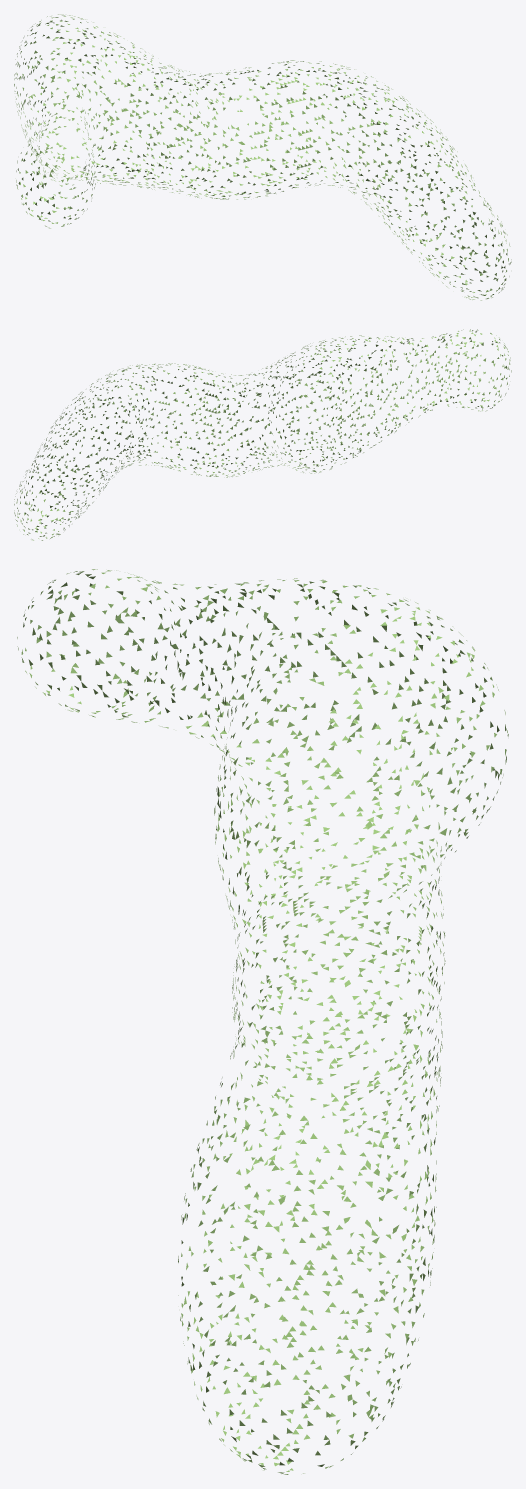
The model's file is morph_013.glb.
3 renders of one model, top to bottom at view 1: azimuth 30°, elevation 25°; view 2: azimuth 150°, elevation 25°; view 3: azimuth 270°, elevation 25°, orthographic. The views are drawn at different scales.
Size of the model in its own units: 104 by 66.05 by 51.58.
